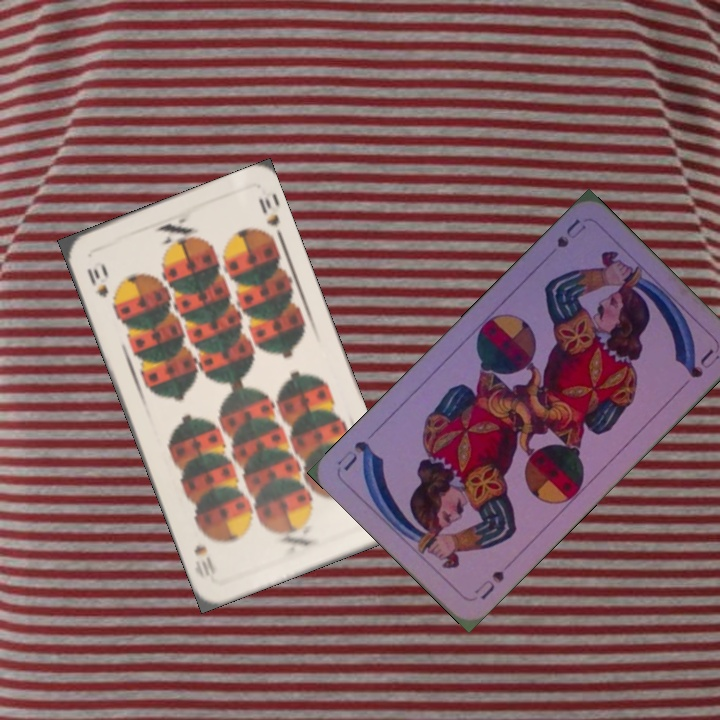S10: (82, 260, 111, 301)
SU: (470, 566, 507, 603), (553, 214, 589, 251)
